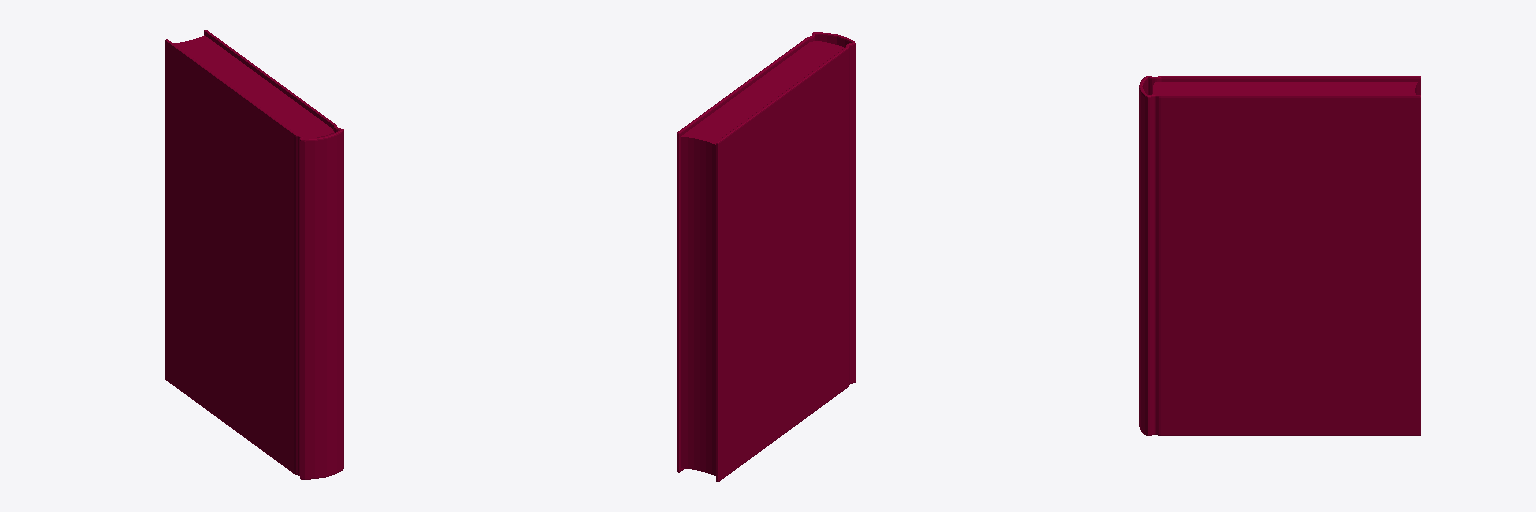
File: samplebook.obj
The picture shows the model from 3 angles: view 1: azimuth 30°, elevation 25°; view 2: azimuth 150°, elevation 25°; view 3: azimuth 270°, elevation 25°; orthographic projection.
Visible parts, largest first — view 1: Sample_Book_01; view 2: Sample_Book_01; view 3: Sample_Book_01.
Boxes of the visible parts, box(x1,y1,x2,y2) form: Sample_Book_01: box(165, 30, 343, 479); Sample_Book_01: box(677, 32, 855, 481); Sample_Book_01: box(1139, 76, 1420, 435).
Bounding box in the file's own units: 2.05 × 15.38 × 11.59.